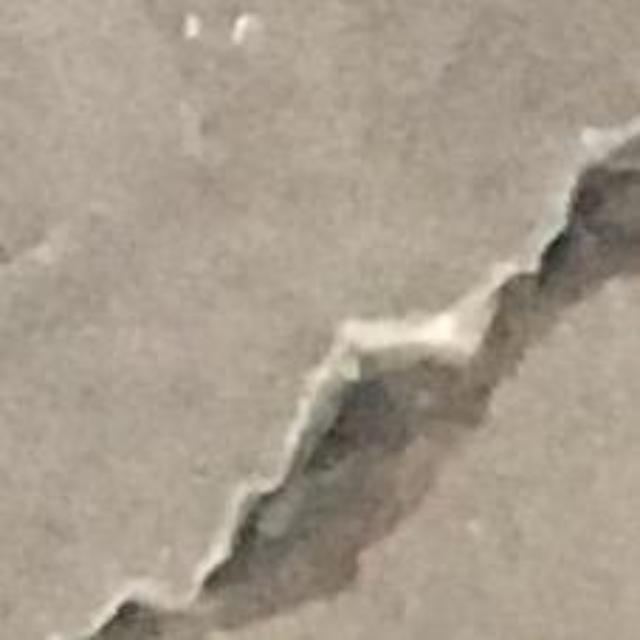crack: (71, 130, 639, 639)
